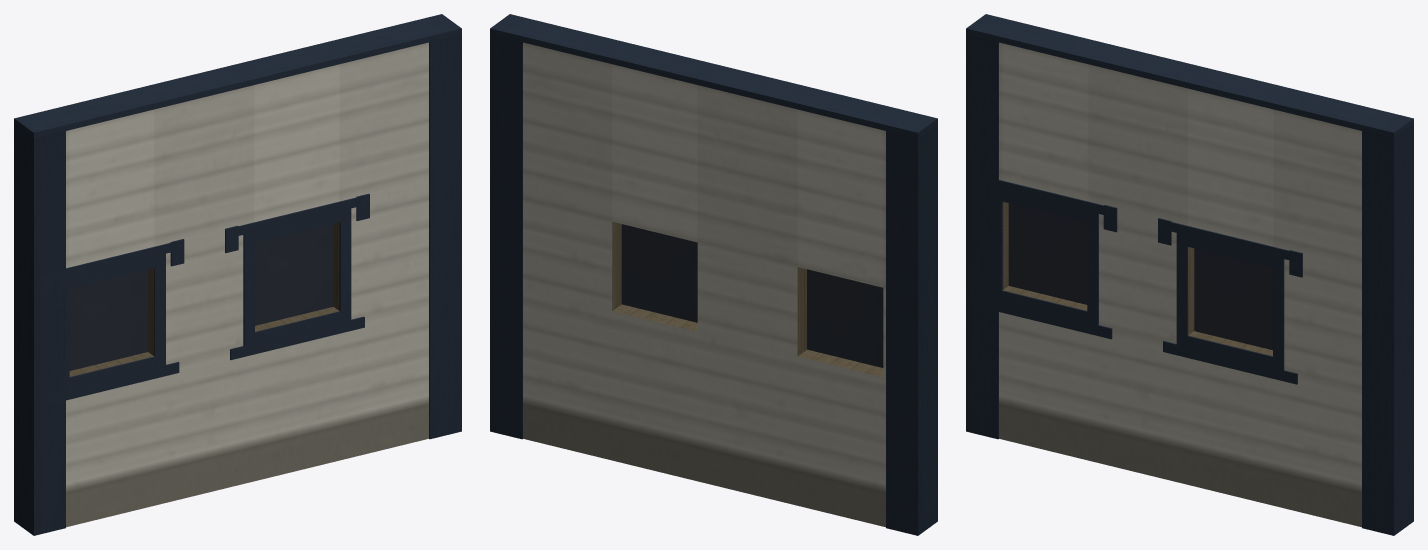
File: house_05_wall_window.glb
3 renders of one model, left to right at view 1: azimuth 30°, elevation 25°; view 2: azimuth 150°, elevation 25°; view 3: azimuth 330°, elevation 25°, orthographic.
Visible parts, largest first — view 1: outdoor_house_05_wall_window; view 2: outdoor_house_05_wall_window; view 3: outdoor_house_05_wall_window.
Boxes of the visible parts, bbox=[...] form: outdoor_house_05_wall_window: bbox=[14, 14, 461, 535]; outdoor_house_05_wall_window: bbox=[490, 14, 937, 535]; outdoor_house_05_wall_window: bbox=[966, 14, 1413, 535].
Bounding box in the file's own units: 3 × 2.7 × 0.24.
1 material, 1 textured.
